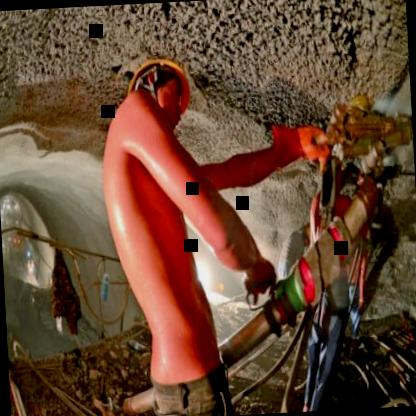helmet: (120, 44, 210, 122)
